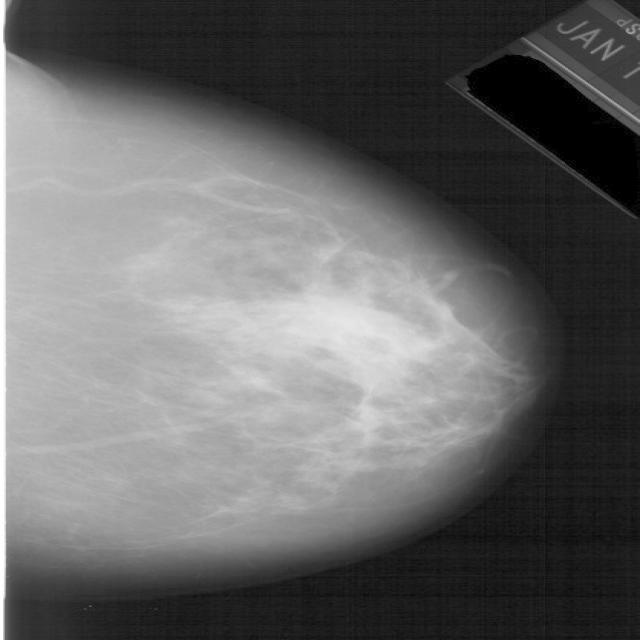tumour: (274, 294, 430, 362)
